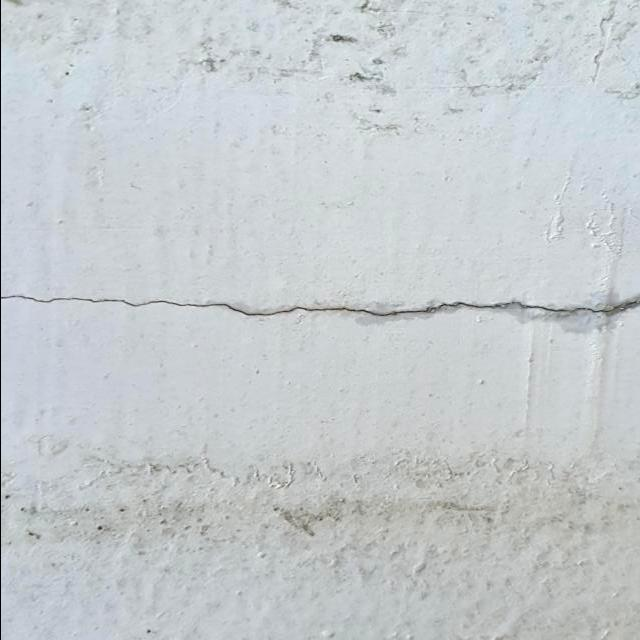SurfaceCrack: (0, 244, 639, 372)
